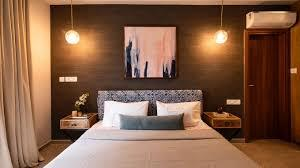bed: (43, 86, 259, 168)
door: (248, 32, 289, 143)
light: (62, 0, 83, 47), (213, 0, 232, 47)
table: (60, 105, 98, 136), (205, 109, 244, 139)
